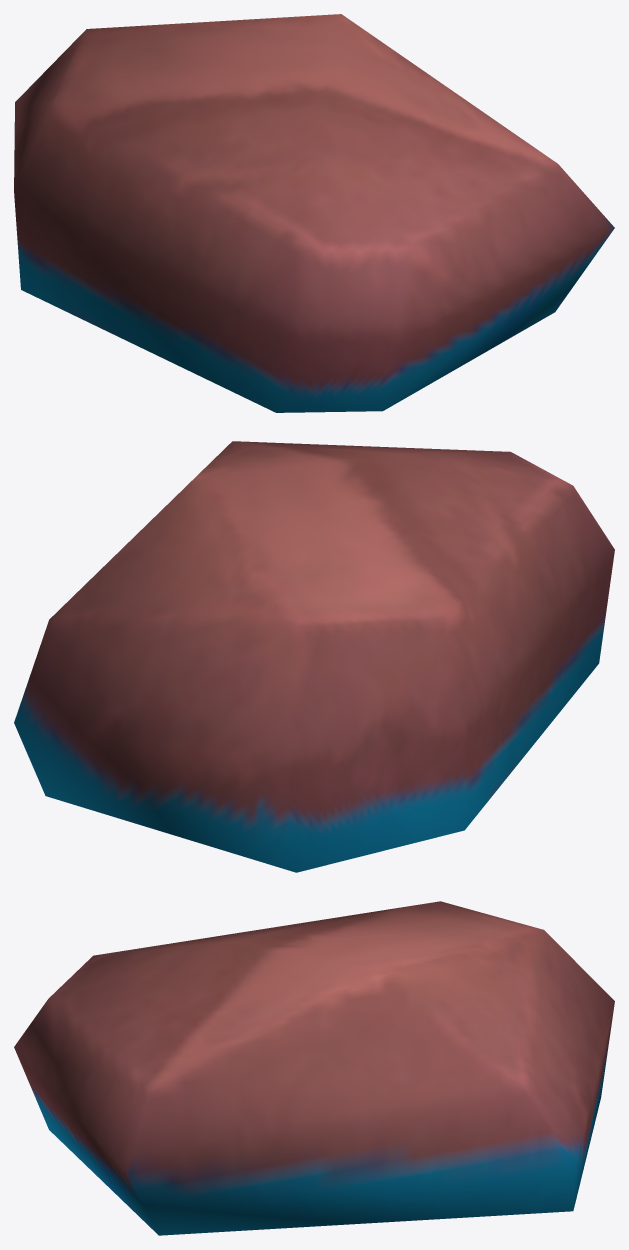
File: nameikexing_shitou10.FBX
3 views of the same model, one above another, from view 1: azimuth 30°, elevation 25°; view 2: azimuth 150°, elevation 25°; view 3: azimuth 270°, elevation 25° (orthographic). The views are drawn at different scales.
Parts seen in each view (by area): view 1: nameikexing_shitou10; view 2: nameikexing_shitou10; view 3: nameikexing_shitou10.
Part boxes in pixels (x1,y1,x2,y2): nameikexing_shitou10: (14,14,614,412); nameikexing_shitou10: (14,441,614,872); nameikexing_shitou10: (14,901,614,1235).
Bounding box in the file's own units: 278 × 144 × 361.
